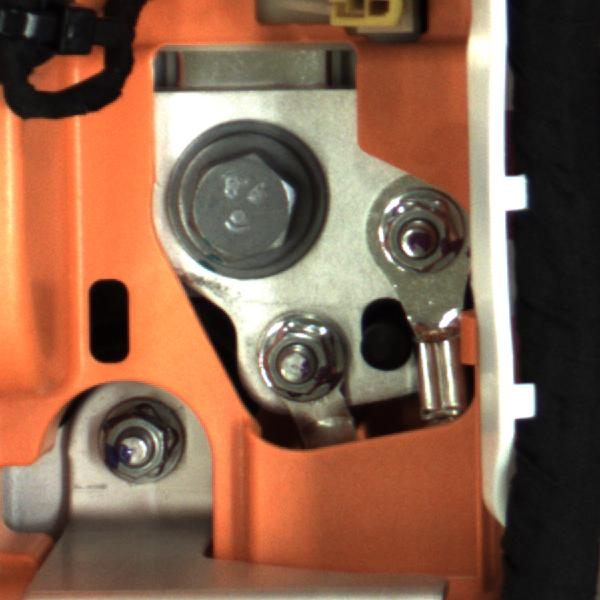nut_b: (158, 133, 338, 285)
screw_s: (252, 312, 350, 409), (359, 183, 466, 266), (98, 404, 186, 491)
